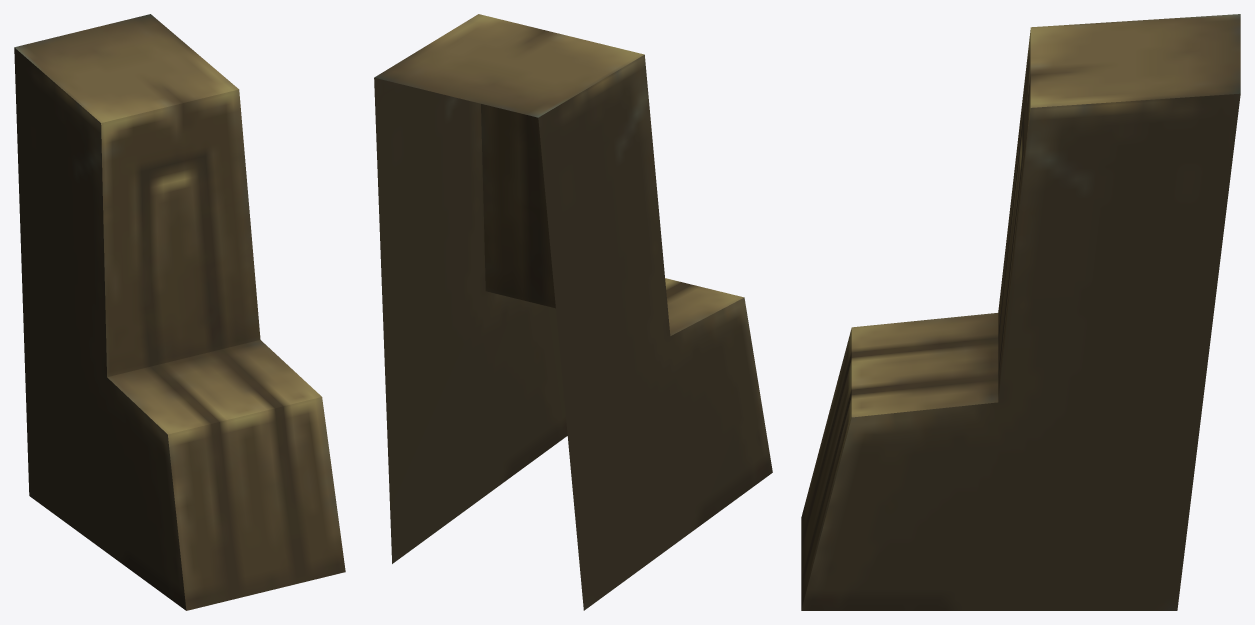
Rendered from yw_shanlin_postleg_001.FBX.
3 renders of one model, left to right at view 1: azimuth 30°, elevation 25°; view 2: azimuth 150°, elevation 25°; view 3: azimuth 270°, elevation 25°, orthographic. The views are drawn at different scales.
Parts seen in each view (by area): view 1: yw_shanlin_postleg_001; view 2: yw_shanlin_postleg_001; view 3: yw_shanlin_postleg_001.
Boxes of the visible parts, left/top/right/bottom form: yw_shanlin_postleg_001: left=14, top=14, right=345, bottom=610; yw_shanlin_postleg_001: left=374, top=14, right=772, bottom=610; yw_shanlin_postleg_001: left=801, top=14, right=1240, bottom=610.
Size of the model in its own units: 8.59 by 17.13 by 21.96.
